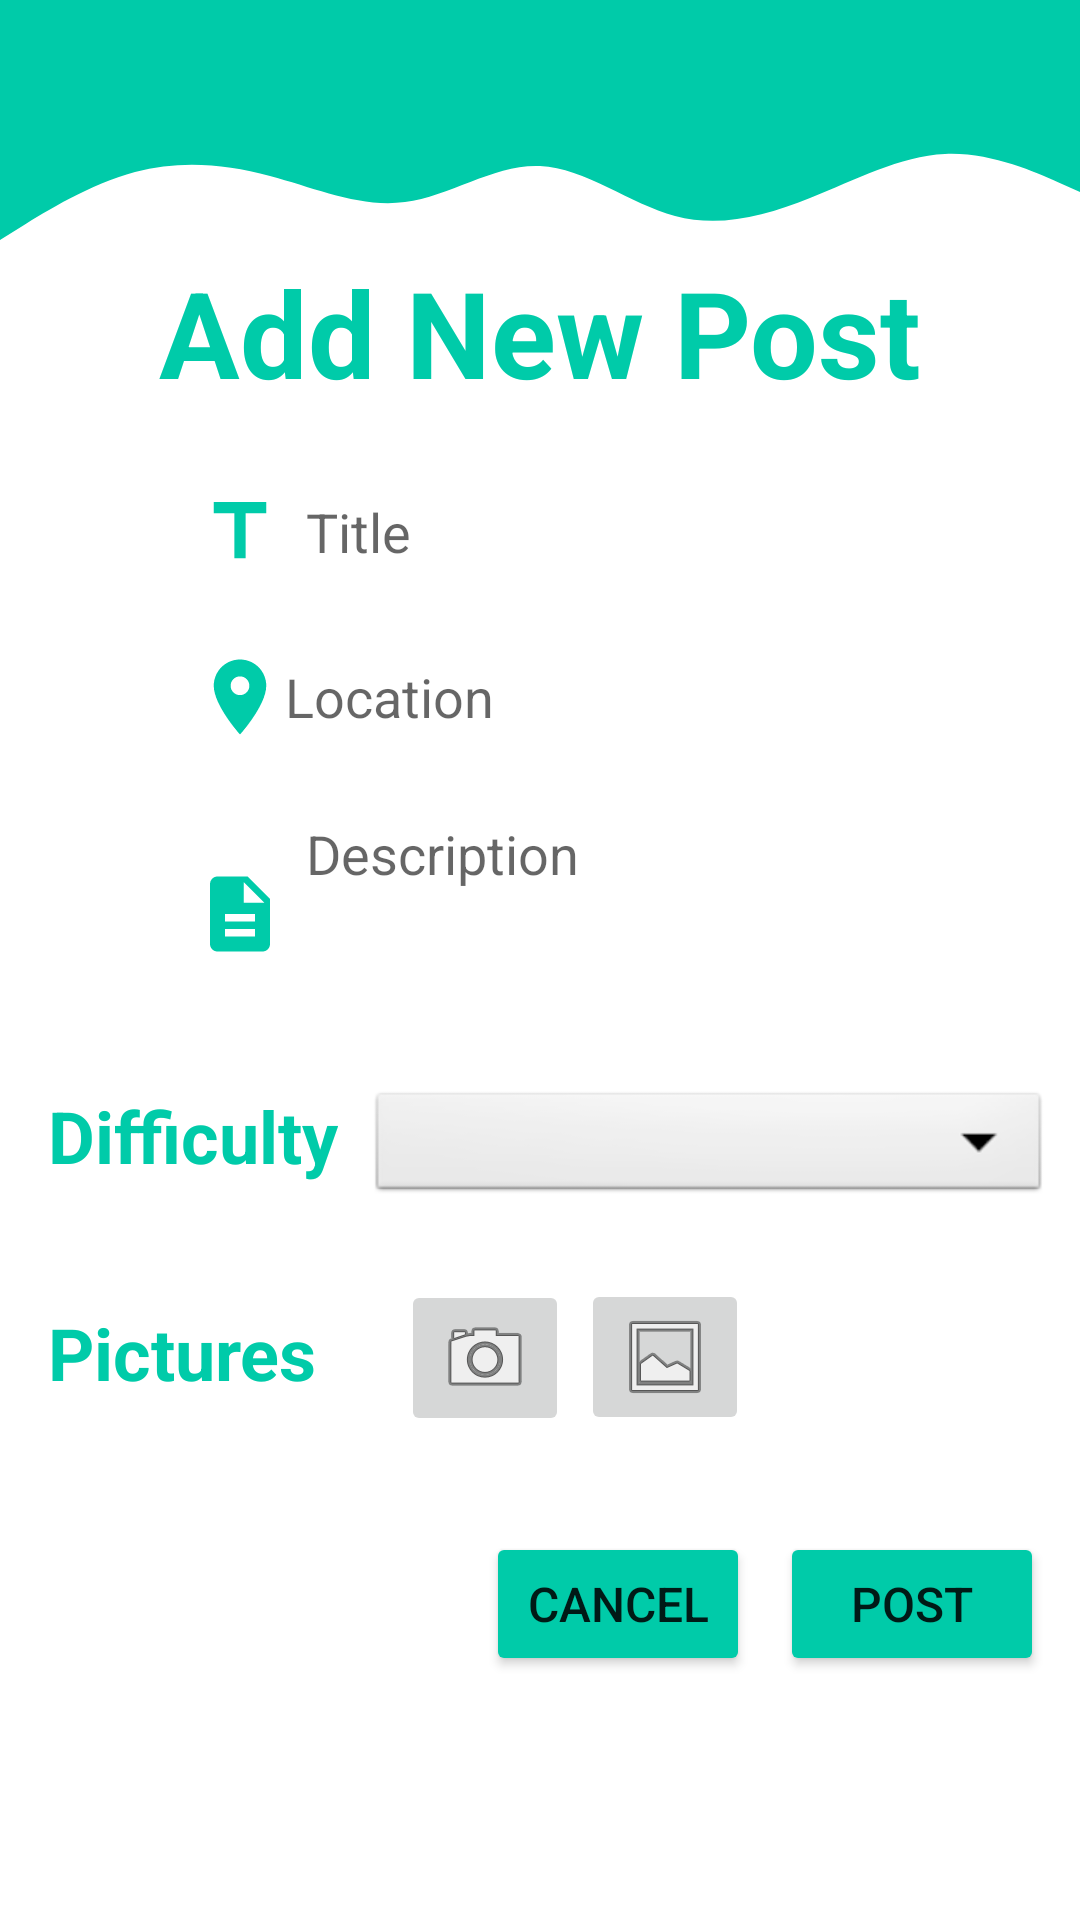

Locate icon controls on the screen. Image size 1080 x 1920, boxes as bbox=[x1, y1, x2, y2].
camera: bbox=[413, 1298, 557, 1418]
gallery: bbox=[593, 1297, 737, 1417]
